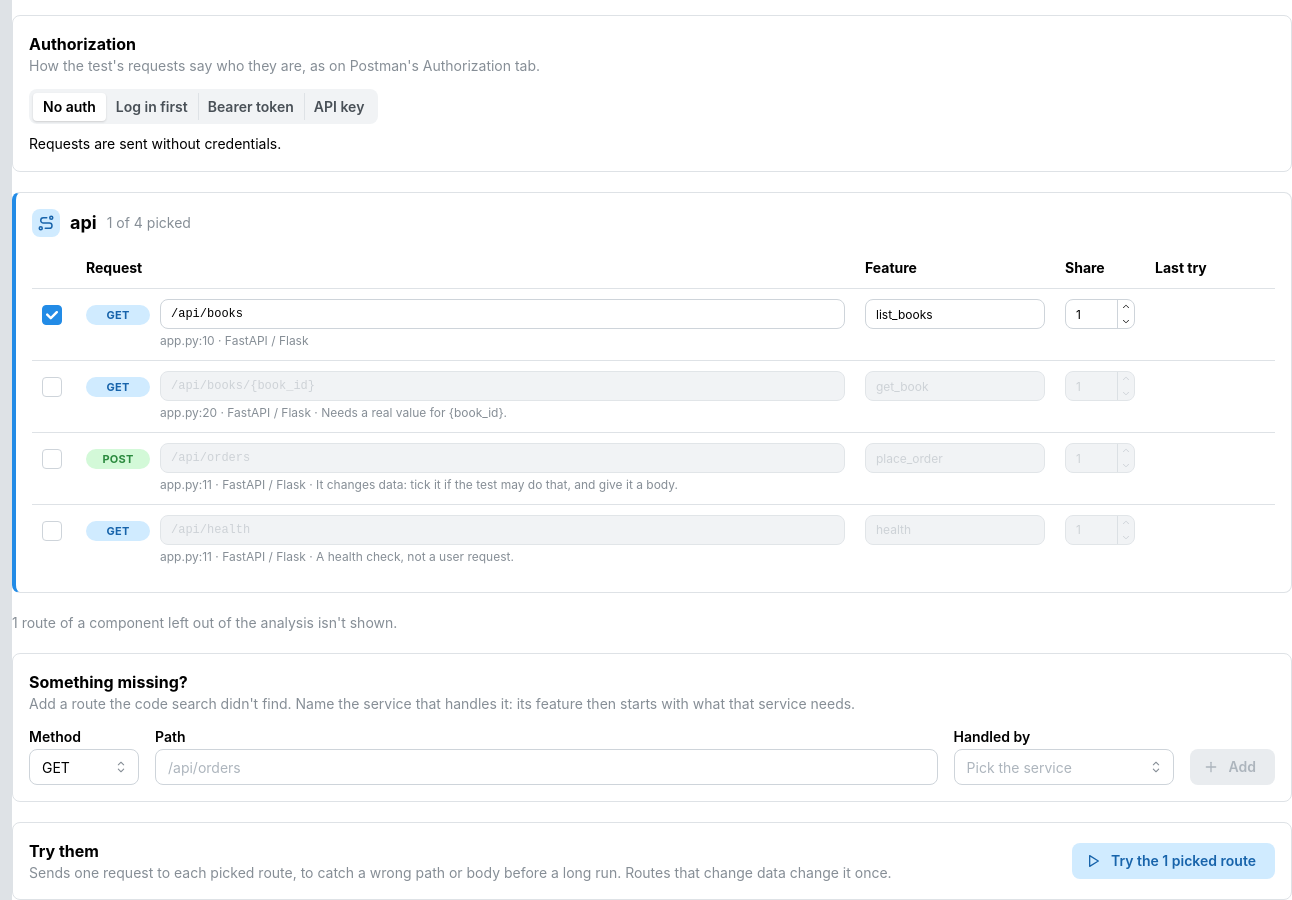
Test: the routes step › shows how each route answered when tried
This screenshot has width=1292, height=900.
(page scrolled)
Click the button "Try the 1 picked route" at [1174, 861], box [1072,843,1275,879]
(page scrolled)
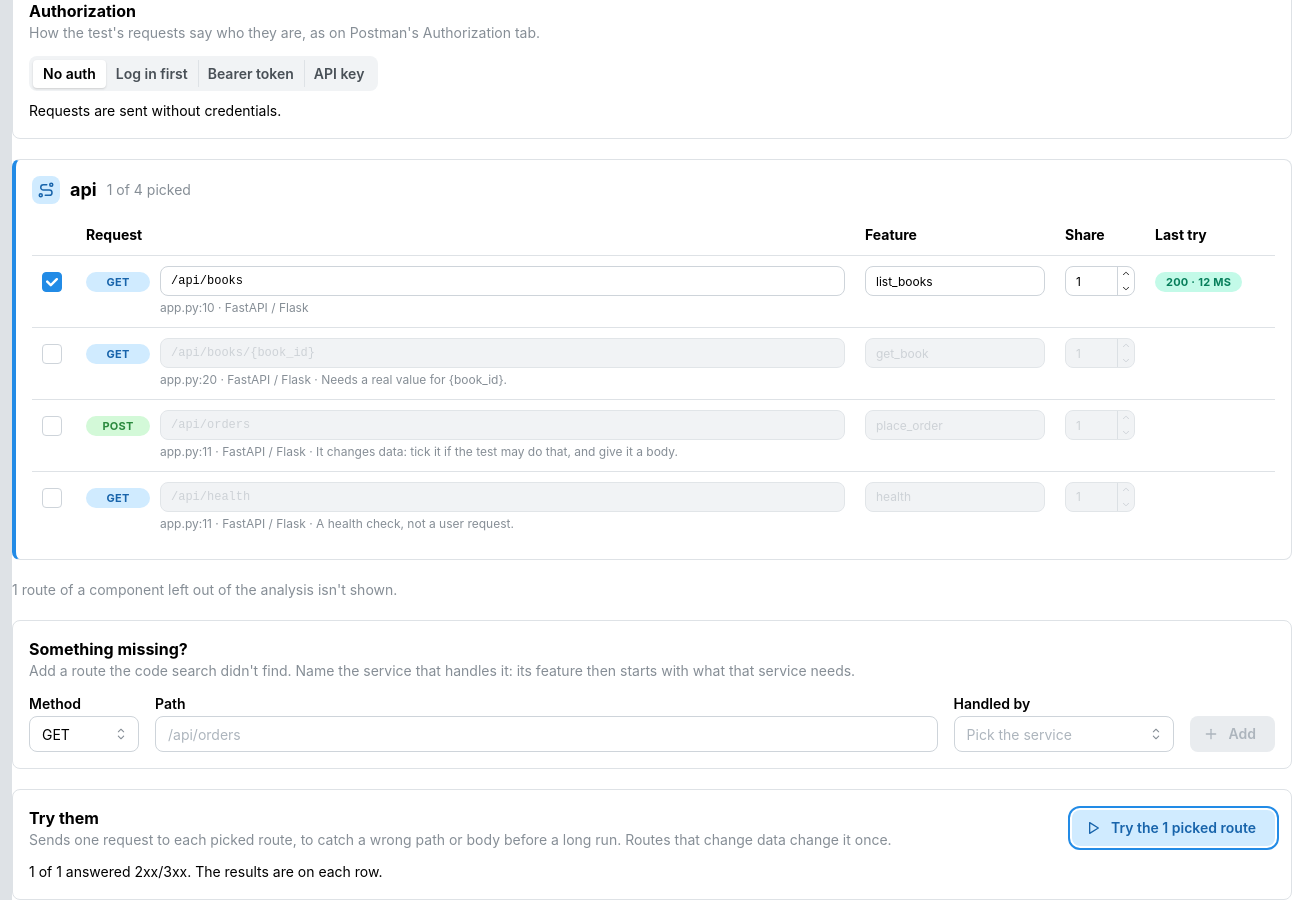
expect the text "200 · 12 ms" is shown: met, box [1166,273,1231,291]
expect the text "1 of 1 answered 2xx/3xx. The results are on each row." is shown: met, box [29,863,382,880]
